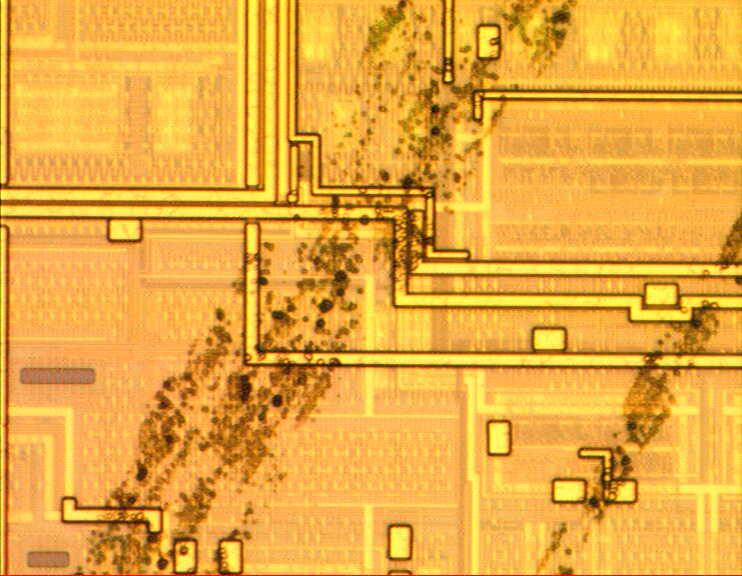SCRATCH: (64, 1, 742, 576)
